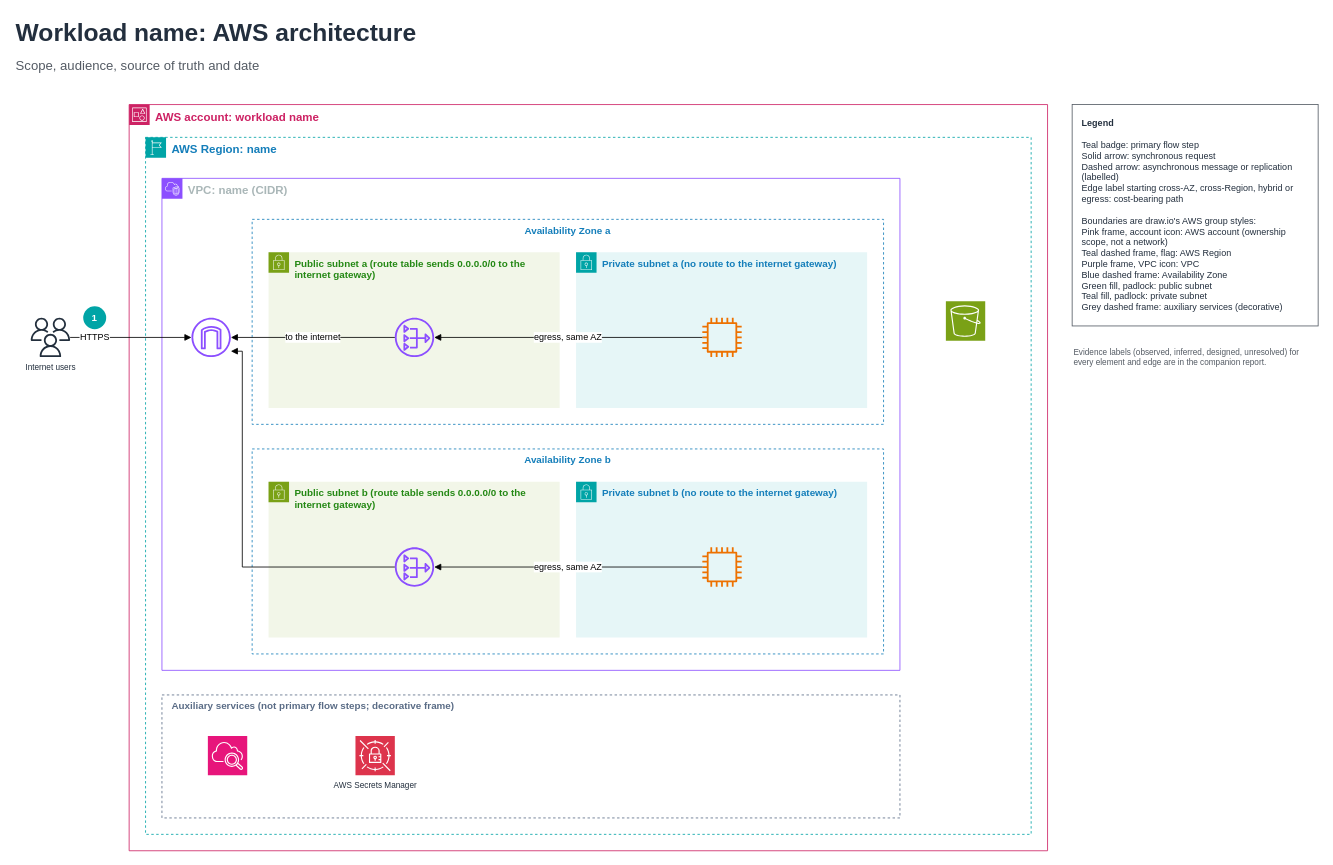
The diagram is 1333 pixels wide and 865 high, and some of its shapes have lost their labels. Here are the shapes that lost their labels. From the top down, the centre of each, then its label:
At (210,337): "Internet gateway".
At (414,337): "NAT gateway a".
At (721,337): "Amazon EC2 instance a".
At (965,321): "Amazon S3".
At (414,566): "NAT gateway b".
At (721,566): "Amazon EC2 instance b".
At (227,755): "Amazon CloudWatch".
